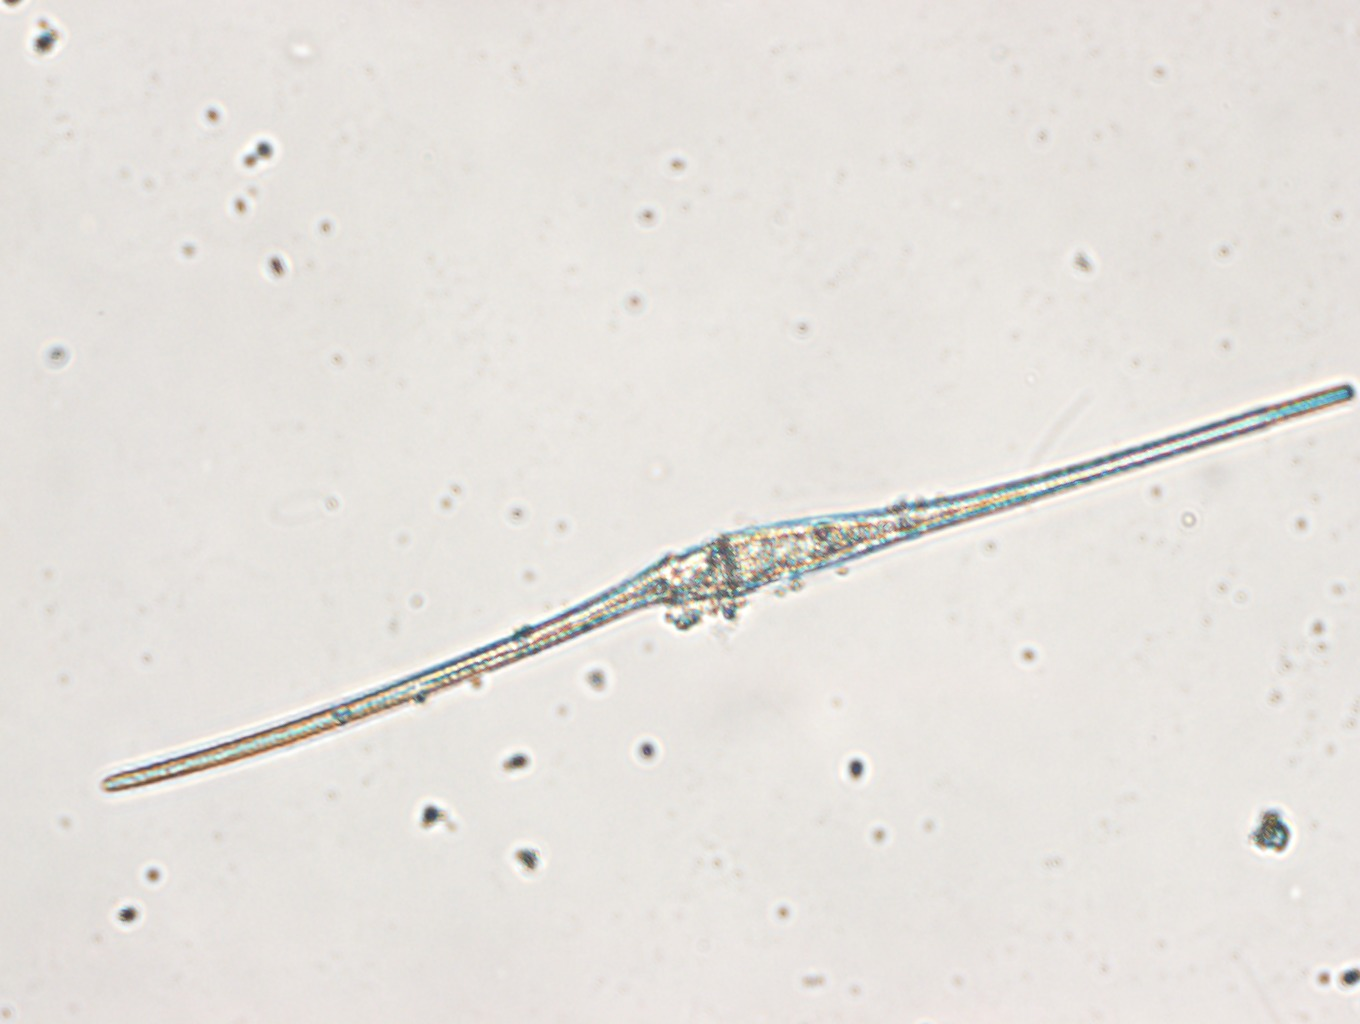ceratium fusus: (97, 378, 1360, 795)
